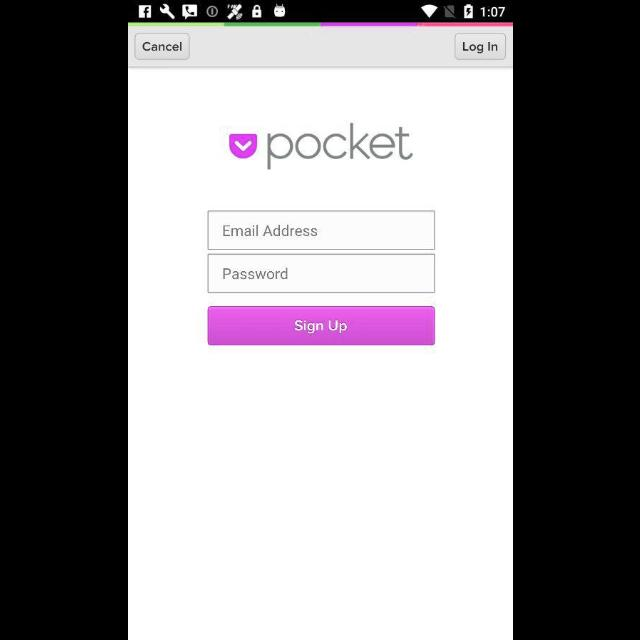image: (228, 123, 414, 171)
input: (207, 254, 435, 294), (207, 210, 435, 250)
text: (223, 224, 317, 236), (223, 268, 287, 280)
textbutton: (208, 306, 434, 346), (134, 34, 190, 61), (453, 34, 505, 61)
toolbar: (128, 28, 512, 66)
uppertaskbar: (128, 1, 512, 23)
